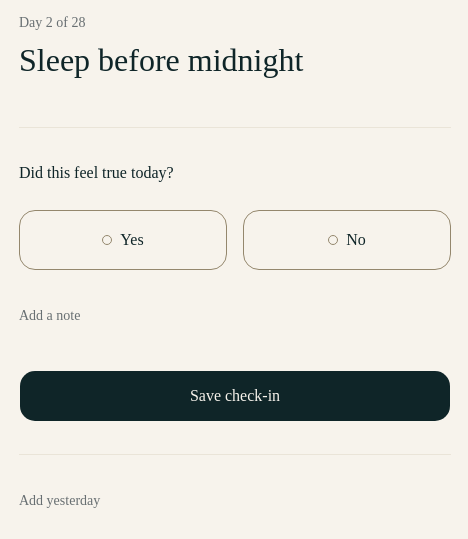
Scenario: TodayDashboard › during the season › yesterday › saving yesterday returns to today's own state
Click the button "Add yesterday": [60, 501] box [19,479,100,523]
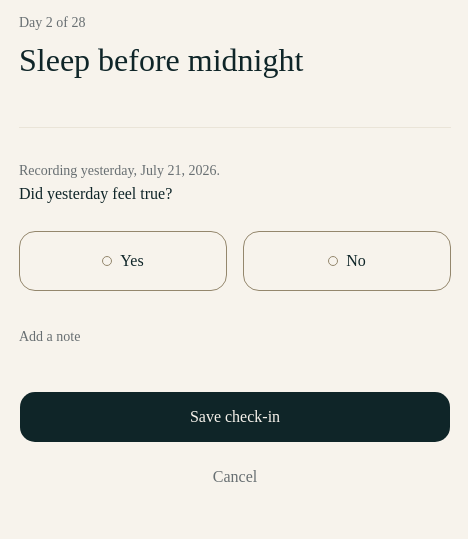
Click the radio button labelled "Yes": [123, 261] box [19,231,227,291]
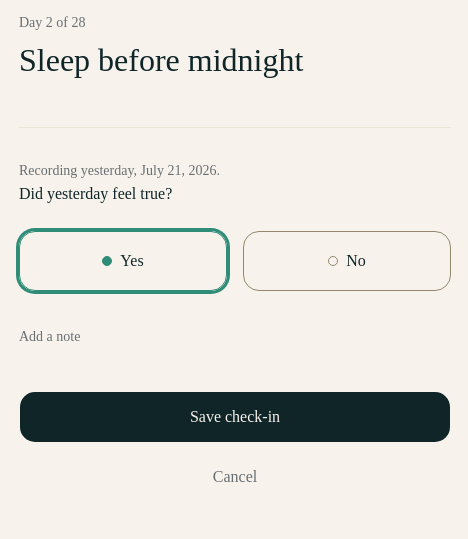
Click the button "Save check-in": [235, 417] box [19,391,451,443]
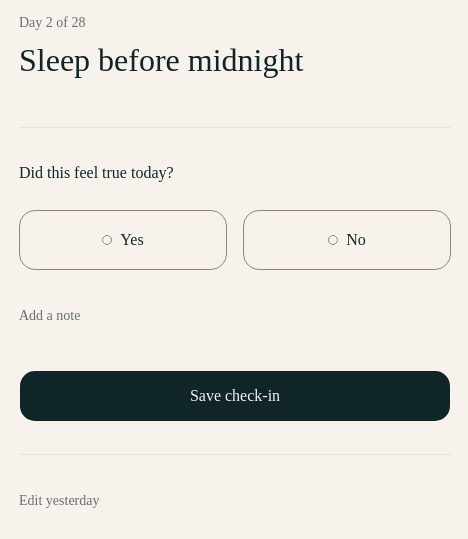
Result: the heading "Did this feel true today?" is shown at [19,164,174,181]
Result: the button "Edit yesterday" is shown at [19,479,100,523]
